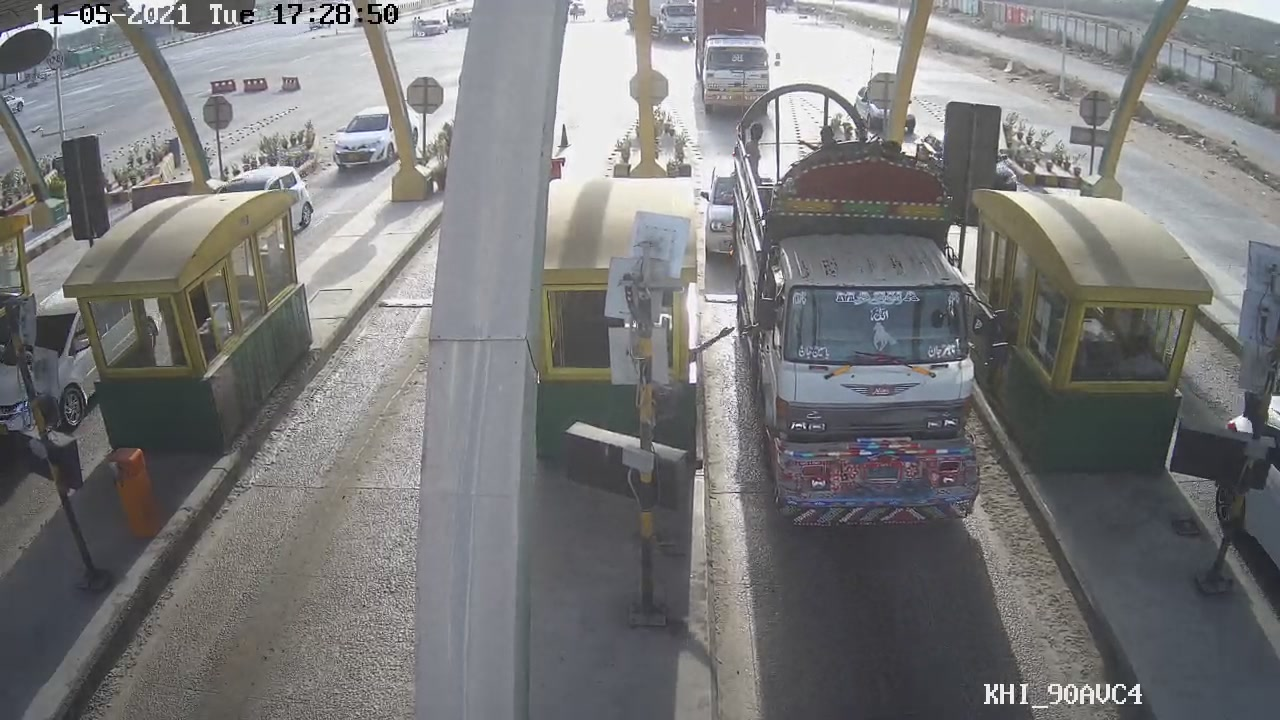F5: (725, 119, 986, 526)
